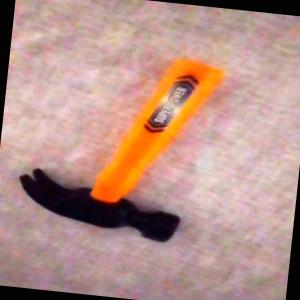martelo: (10, 39, 231, 247)
